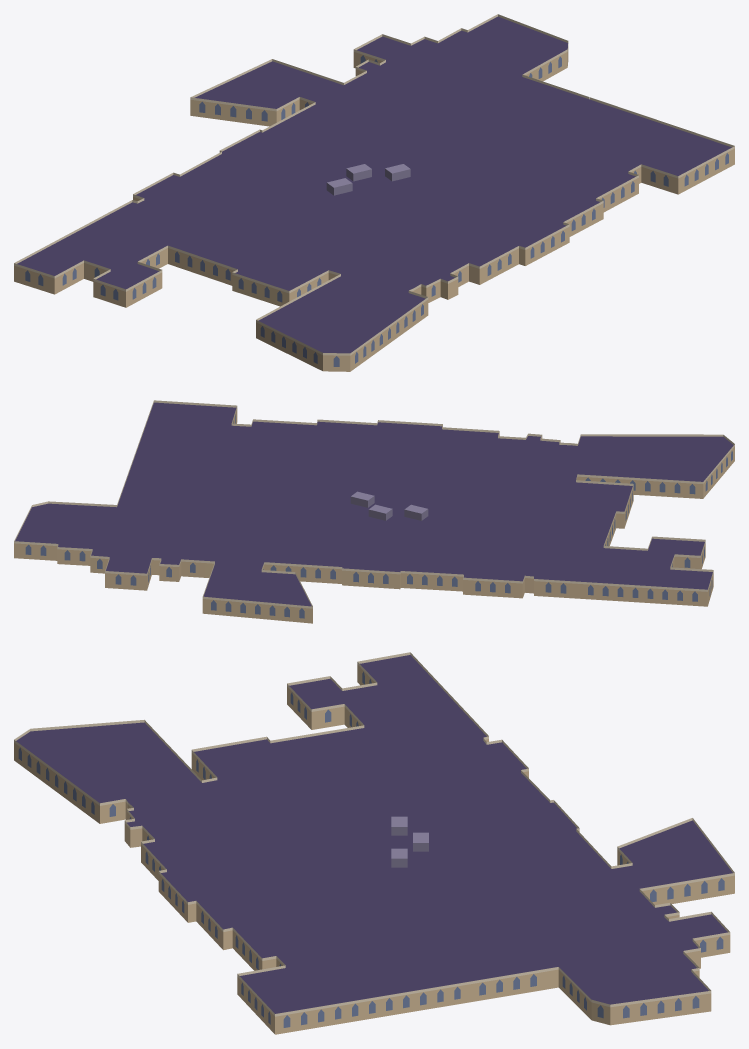
File: b-124-richard-ivey-building-day.glb
The picture shows the model from 3 angles, top to bottom: view 1: azimuth 30°, elevation 25°; view 2: azimuth 150°, elevation 25°; view 3: azimuth 270°, elevation 25°; orthographic projection. The views are drawn at different scales.
Parts seen in each view (by area): view 1: campus/b-124-richard-ivey-building-day-0; view 2: campus/b-124-richard-ivey-building-day-0; view 3: campus/b-124-richard-ivey-building-day-0.
Part boxes in pixels (<box>): campus/b-124-richard-ivey-building-day-0: <box>14,14,734,371</box>; campus/b-124-richard-ivey-building-day-0: <box>14,400,734,623</box>; campus/b-124-richard-ivey-building-day-0: <box>14,652,734,1034</box>.
Bounding box in the file's own units: 159 × 5.5 × 134.
